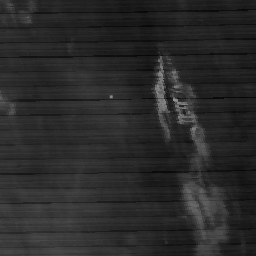Target: (108, 92, 115, 99)
